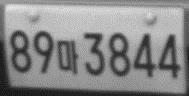3: (83, 31, 106, 76)
4: (157, 34, 181, 79), (133, 33, 155, 79)
8: (107, 32, 130, 77), (9, 29, 31, 72)
9: (33, 30, 54, 75)
마: (56, 39, 79, 75)
